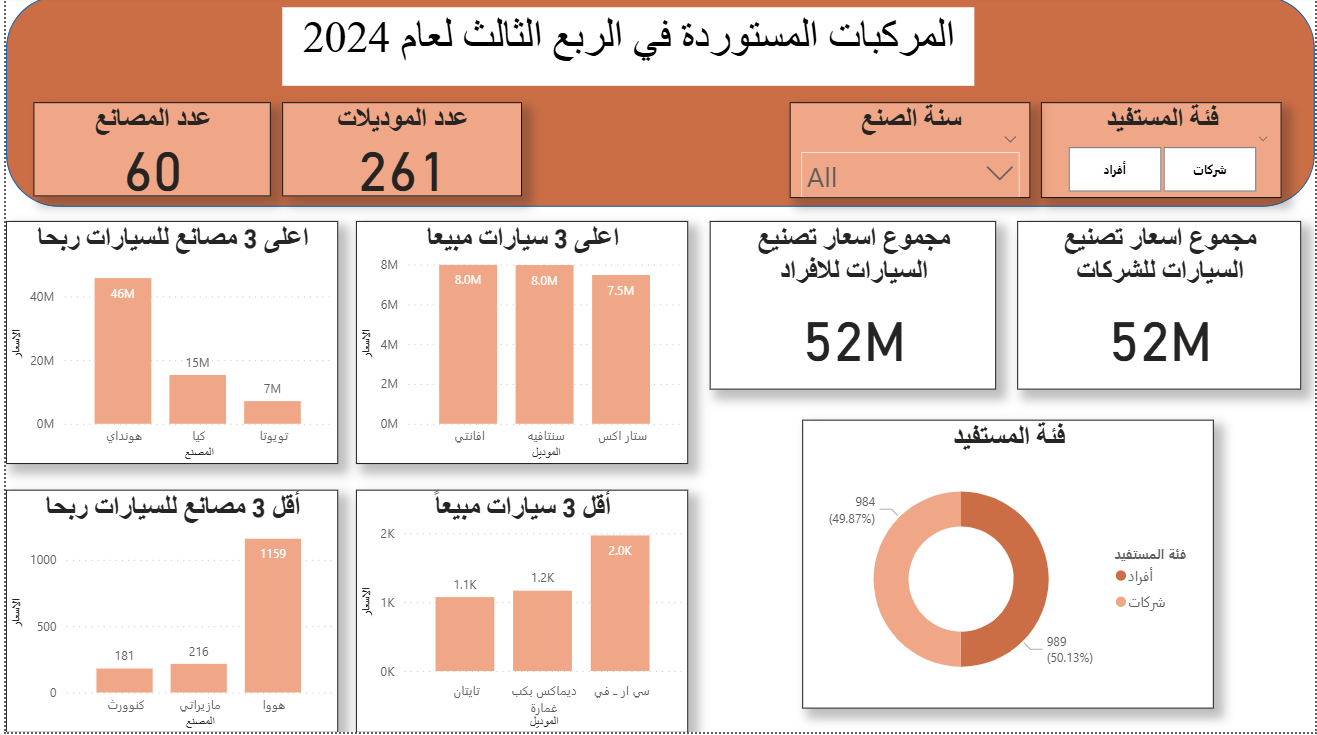

This screenshot's page, from the dashboard's own definition file:
{"tool":"powerbi","page":{"name":"Page 1","canvas":[1280,720],"ordinal":0},"visuals":[{"type":"shape","box":[0,0,1280,206.2],"z":0},{"type":"textbox","box":[270,11.4,677.1,77.1],"z":1000},{"type":"slicer","title":"فئة المستفيد","fields":{"Values":["الجدول1.فئة المستفيد"]},"box":[1012.2,103.3,235.6,93.3],"z":2000},{"type":"slicer","title":"سنة الصنع","fields":{"Values":["الجدول1.سنة الصنع"]},"box":[766.7,103.3,235.6,93.3],"z":3000},{"type":"columnChart","title":"اعلى 3 مصانع للسيارات ربحا","fields":{"Category":["الجدول1.المصنع"],"Y":["Sum(الجدول1.الأسعار)"]},"box":[0,220,325,237.5],"z":4000},{"type":"columnChart","title":"اعلى 3 سيارات مبيعا","fields":{"Category":["الجدول1.الموديل"],"Y":["Sum(الجدول1.الأسعار)"]},"box":[342.5,220,325,237.5],"z":5000},{"type":"donutChart","title":"فئة المستفيد","fields":{"Category":["الجدول1.فئة المستفيد"],"Y":["Count(الجدول1.العدد)"]},"box":[778.8,415,402.5,282.5],"z":6000},{"type":"card","title":"عدد المصانع","fields":{"Values":["Count(الجدول1.المصنع)"]},"box":[26.7,103.3,232.2,92.2],"z":7000},{"type":"card","title":"عدد الموديلات","fields":{"Values":["Count(الجدول1.الموديل)"]},"box":[270,103.3,234.4,92.2],"z":8000},{"type":"columnChart","title":"أقل 3 سيارات مبيعاً","fields":{"Category":["الجدول1.الموديل"],"Y":["Sum(الجدول1.العدد)"]},"box":[342.5,482.5,325,237.5],"z":9000},{"type":"columnChart","title":"أقل 3 مصانع للسيارات ربحا","fields":{"Category":["الجدول1.المصنع"],"Y":["Sum(الجدول1.العدد)"]},"box":[0,482.5,325,237.5],"z":10000},{"type":"card","title":"مجموع اسعار تصنيع السيارات للافراد","fields":{"Values":["Sum(الجدول1.الأسعار)"]},"box":[688.8,220,280,165],"z":11000},{"type":"card","title":"مجموع اسعار تصنيع السيارات للشركات","fields":{"Values":["Sum(الجدول1.الأسعار)"]},"box":[988.8,220,277.5,165],"z":12000}]}

Visuals, with their boxes in screenshot pixels (x1, y1, x2, y2), scaled from the page's 1280x720 canvas onto the 1317x735 screenshot:
shape: box(0, 0, 1316, 210)
textbox: box(278, 12, 974, 90)
"فئة المستفيد" slicer: box(1041, 105, 1284, 201)
"سنة الصنع" slicer: box(789, 105, 1031, 201)
"اعلى 3 مصانع للسيارات ربحا" columnChart: box(0, 225, 334, 467)
"اعلى 3 سيارات مبيعا" columnChart: box(352, 225, 687, 467)
"فئة المستفيد" donutChart: box(801, 424, 1215, 712)
"عدد المصانع" card: box(27, 105, 266, 200)
"عدد الموديلات" card: box(278, 105, 519, 200)
"أقل 3 سيارات مبيعاً" columnChart: box(352, 493, 687, 734)
"أقل 3 مصانع للسيارات ربحا" columnChart: box(0, 493, 334, 734)
"مجموع اسعار تصنيع السيارات للافراد" card: box(709, 225, 997, 393)
"مجموع اسعار تصنيع السيارات للشركات" card: box(1017, 225, 1303, 393)
